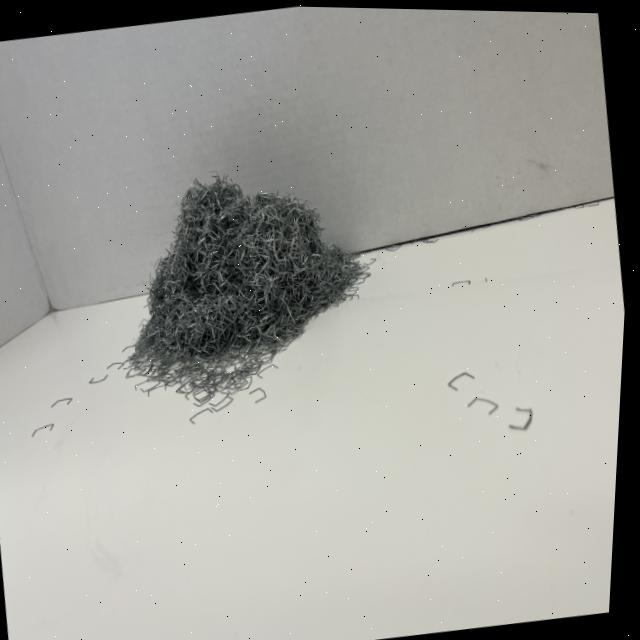staples: (81, 146, 394, 433)
